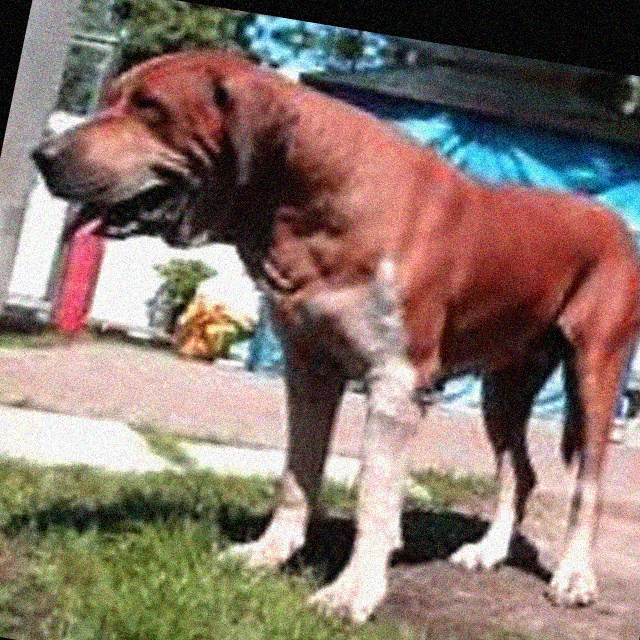dog: (0, 28, 640, 640)
